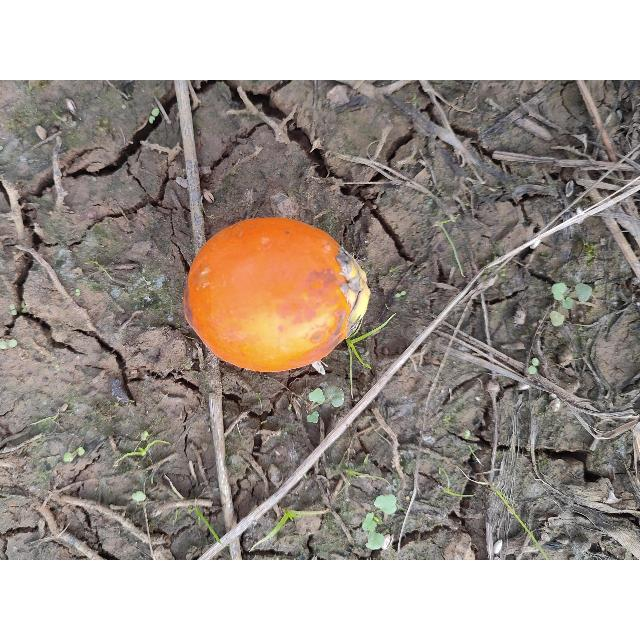good: (183, 218, 367, 374)
